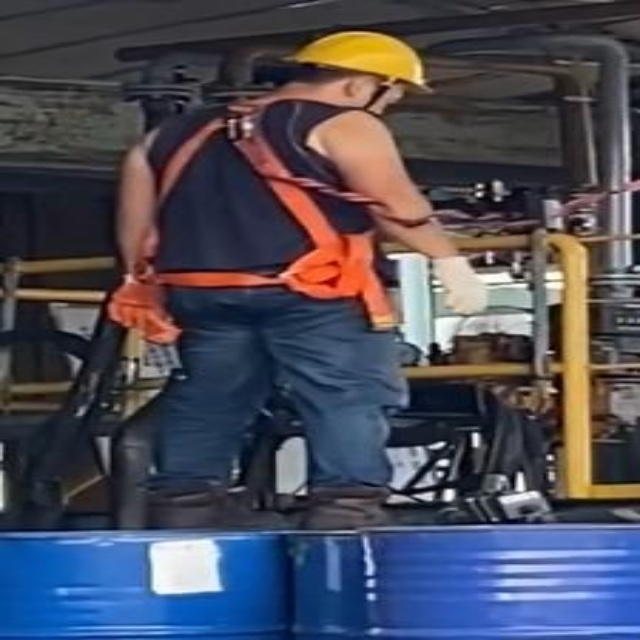Arnes_seguridad: (124, 96, 412, 329)
